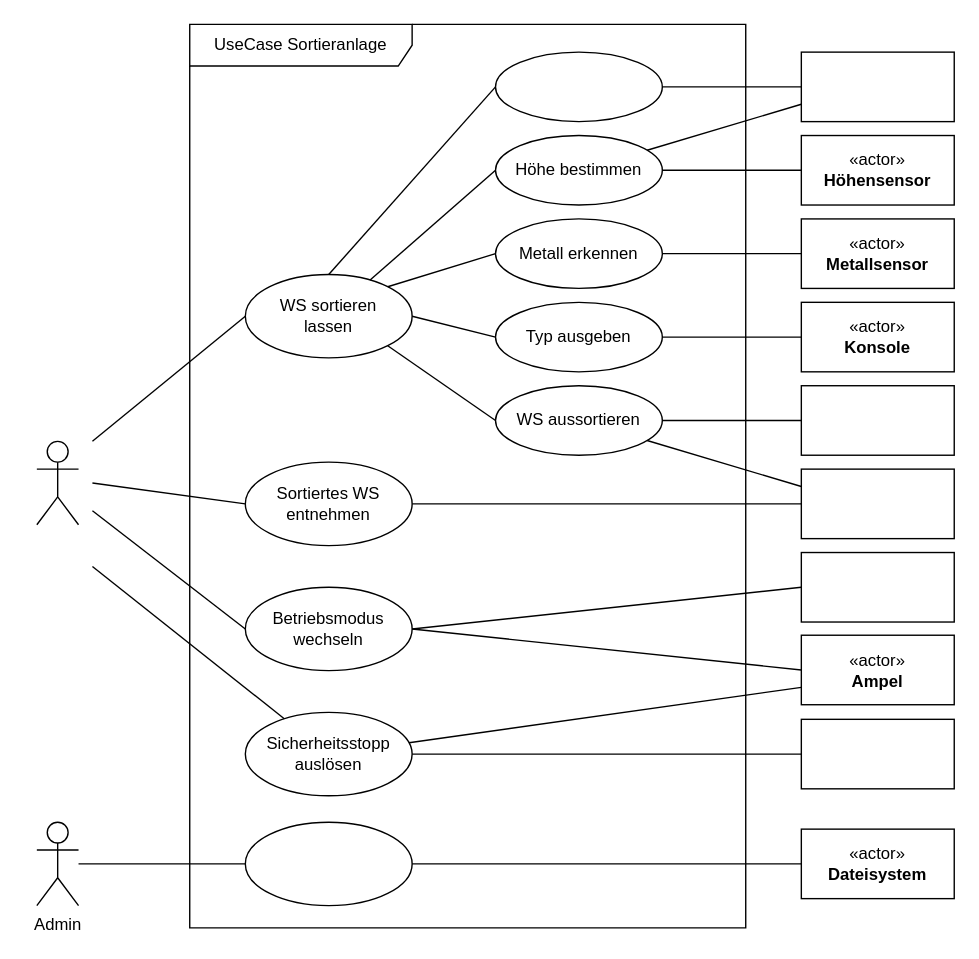
The diagram is 979 pixels wide and 959 high, and some of its shapes have lost their labels. Here are the shapes that lost their labels. From the top down, the box of each, then its label:
(494, 51, 662, 122): Werkstück bewegen
(800, 51, 954, 122): «actor» Förderband
(800, 384, 954, 455): «actor» Weiche
(35, 440, 79, 525): Benutzer
(800, 468, 954, 539): «actor» Lichtschranke
(800, 551, 954, 622): «actor» Taster
(800, 718, 954, 789): «actor» EStopp
(244, 821, 412, 906): System konfigurieren
